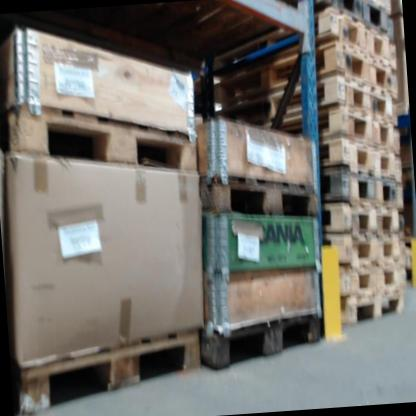pallet: (13, 319, 209, 416), (4, 89, 199, 181), (214, 8, 393, 76), (212, 39, 399, 104), (199, 305, 326, 372), (199, 166, 322, 227), (229, 89, 398, 128), (323, 163, 407, 212), (316, 105, 402, 152), (325, 136, 405, 186), (323, 196, 406, 240), (333, 234, 409, 267), (335, 262, 411, 293), (344, 290, 410, 322), (322, 0, 392, 30)
